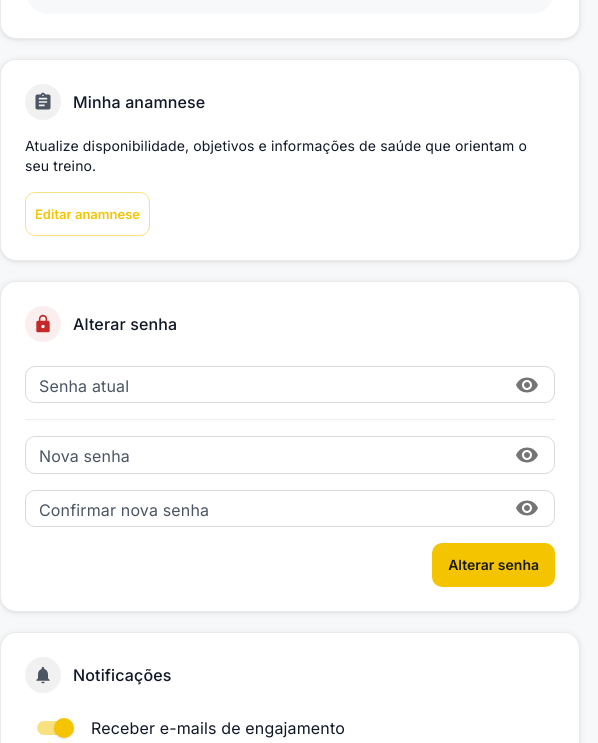
it: /perfil — alterar senha › senhas divergentes mostram erro
(page scrolled)
Step 1. Type "old12345" into the password field labelled "Senha atual" → (264, 385), box [25,366,502,403]
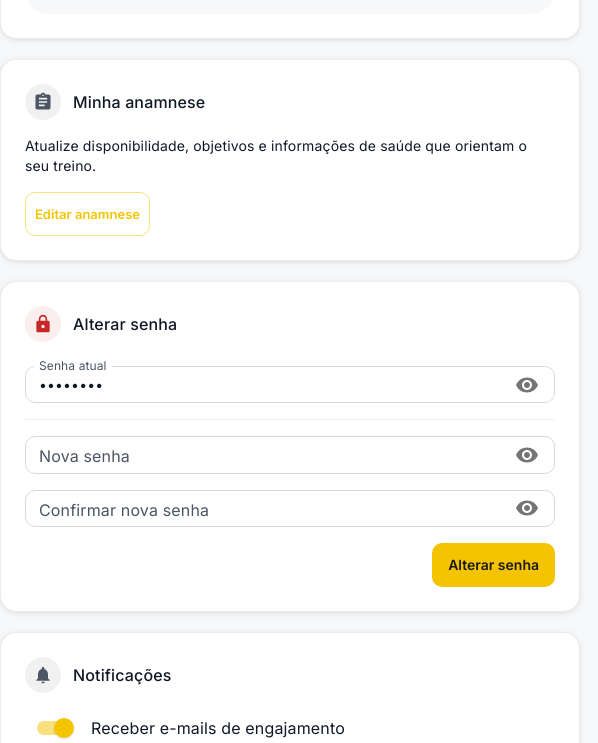
Step 2. Type "NovaSenha123" into the password field labelled "Nova senha" → (264, 455), box [25,436,502,474]
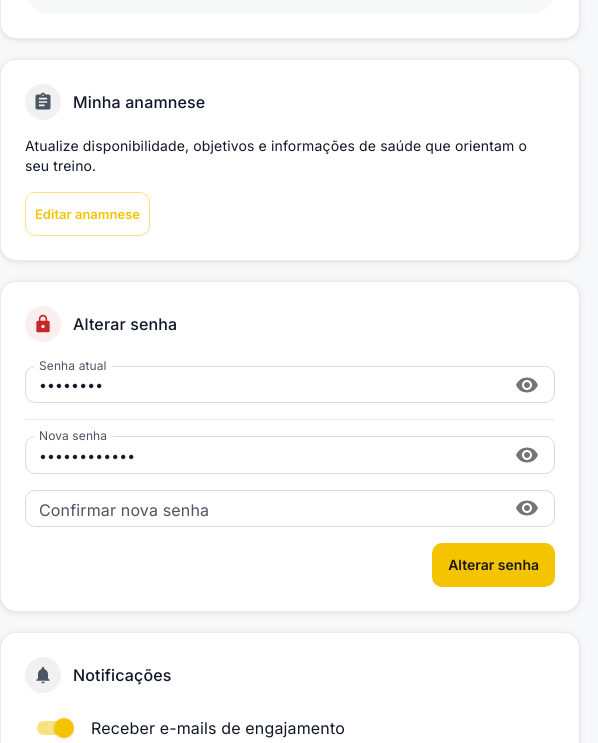
Step 3. Type "OutraSenha456" into the password field labelled "Confirmar nova senha" → (264, 508), box [25,490,502,527]
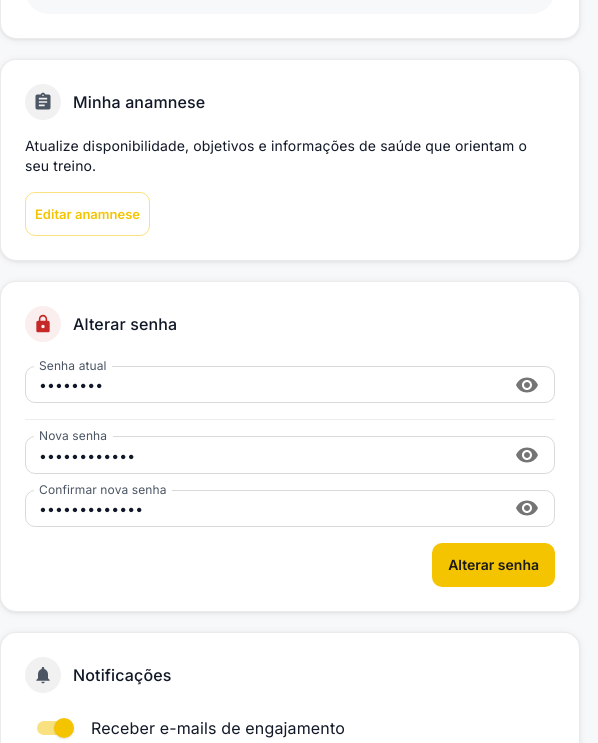
Step 4. Click the button "Alterar senha" → (494, 565), box [432,543,555,587]
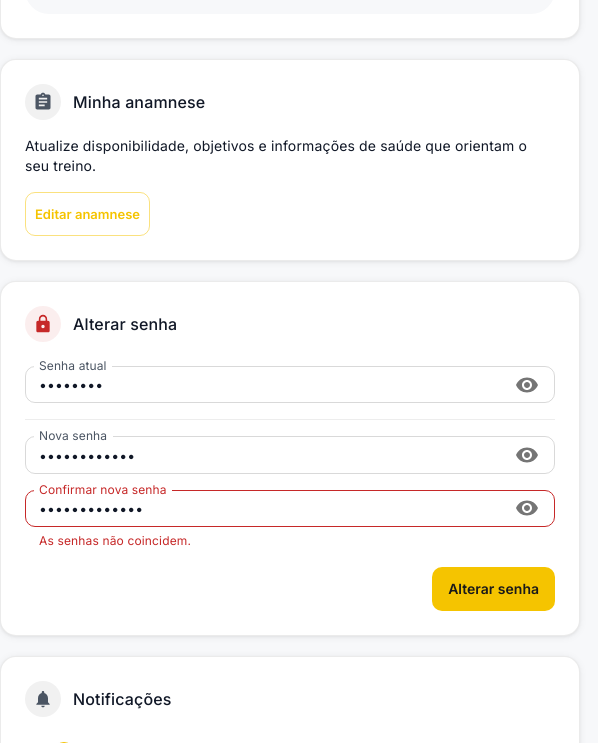
Now the text "As senhas não coincidem." is shown, box [39,533,191,548]
